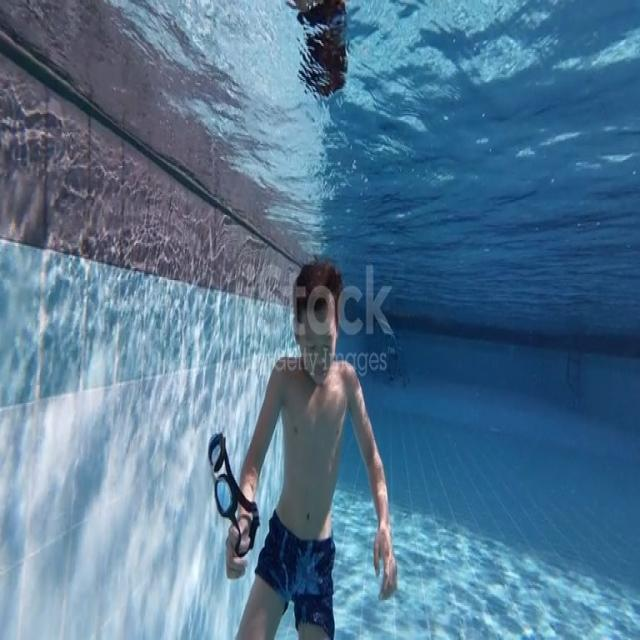Drowning: (207, 259, 398, 640)
